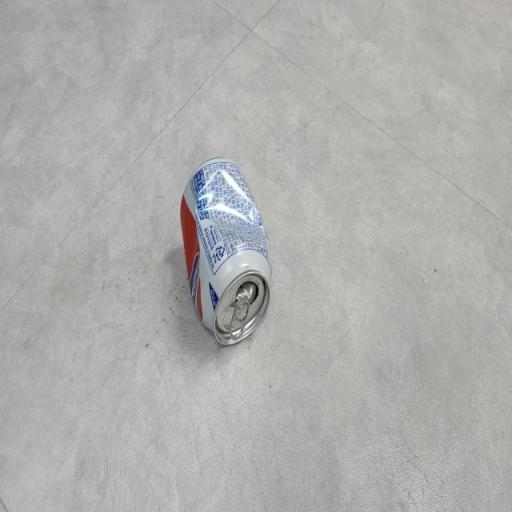metal: (167, 138, 287, 371)
